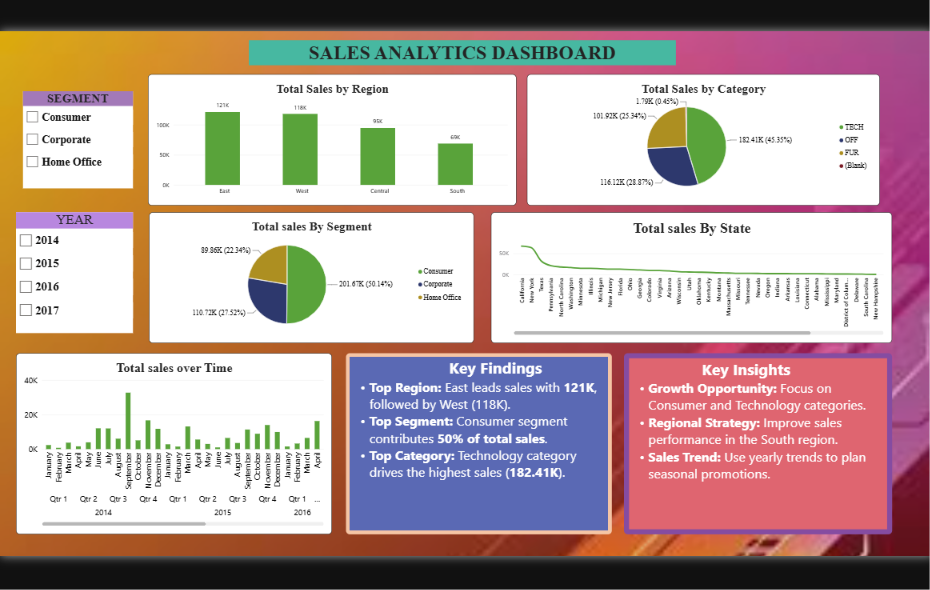

The page's visual inventory and layout, read from the dashboard file:
{"tool":"powerbi","page":{"name":"Sales Analytics","canvas":[1920,1080],"ordinal":1},"visuals":[{"type":"clusteredColumnChart","title":"Total Sales by Region","fields":{"Category":["Data.Region"],"Y":["Sum(Data.Sales)"]},"box":[304,88,758,270],"z":0},{"type":"pieChart","title":"Total Sales by Category","fields":{"Category":["Product_details.category code"],"Y":["Sum(Data.Sales)"]},"box":[1084,88,726,270],"z":1000},{"type":"columnChart","title":"Total sales over Time","fields":{"Y":["Data.Total sales"],"Category":["Data.Order Date.Variation.Date Hierarchy.Year","Data.Order Date.Variation.Date Hierarchy.Quarter","Data.Order Date.Variation.Date Hierarchy.Month","Data.Order Date.Variation.Date Hierarchy.Day"]},"box":[32.9,662.8,650.4,372.6],"z":2000},{"type":"pieChart","title":"Total sales By Segment","fields":{"Category":["Data.Segment"],"Y":["Data.Total sales"]},"box":[306.7,372.6,669,269.6],"z":3000},{"type":"textbox","title":"SALES ANALYTICS DASHBOARD","box":[512,18,878,52],"z":4000},{"type":"slicer","title":"SEGMENT","fields":{"Values":["Data.Segment"]},"box":[47.3,123.5,226.4,199.7],"z":5000},{"type":"slicer","title":"YEAR","fields":{"Values":["Data.Years"]},"box":[32.9,372.6,240.8,249.1],"z":6000},{"type":"lineChart","title":"Total sales By State","fields":{"Category":["Data.State"],"Y":["Data.Total sales"]},"box":[1010.6,372.6,825.4,269.6],"z":7000},{"type":"textbox","box":[712.2,662.8,547.5,372.6],"z":8000},{"type":"textbox","box":[1284.4,662.8,551.6,372.6],"z":9000}]}

Visuals, with their boxes in screenshot pixels (x1, y1, x2, y2):
"Total Sales by Region" clusteredColumnChart: bbox(148, 76, 510, 205)
"Total Sales by Category" pieChart: bbox(520, 76, 867, 205)
"Total sales over Time" columnChart: bbox(18, 351, 329, 528)
"Total sales By Segment" pieChart: bbox(149, 212, 468, 341)
"SALES ANALYTICS DASHBOARD" textbox: bbox(247, 43, 666, 67)
"SEGMENT" slicer: bbox(25, 93, 133, 188)
"YEAR" slicer: bbox(18, 212, 133, 331)
"Total sales By State" lineChart: bbox(485, 212, 879, 341)
textbox: bbox(343, 351, 604, 528)
textbox: bbox(616, 351, 879, 528)
